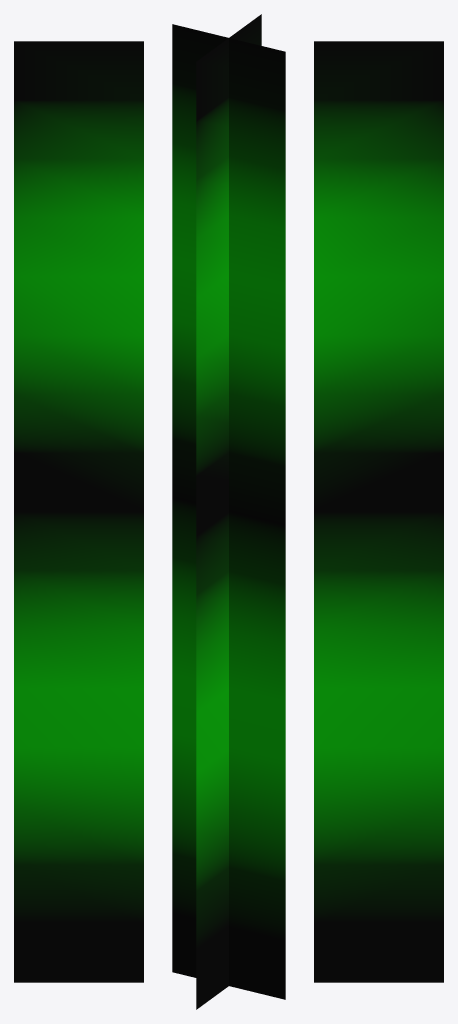
File: Seaweed1Model.fbx
3 views of the same model, side by side, from view 1: azimuth 90°, elevation 25°; view 2: azimuth 150°, elevation 25°; view 3: azimuth 270°, elevation 25° (orthographic).
Parts seen in each view (by area): view 1: SeaweedModel; view 2: SeaweedModel; view 3: SeaweedModel.
Boxes of the visible parts, x1=… form: SeaweedModel: x1=14, y1=41, x2=143, y2=982; SeaweedModel: x1=172, y1=14, x2=285, y2=1009; SeaweedModel: x1=314, y1=41, x2=443, y2=982.
Bounding box in the file's own units: 12.5 × 100 × 12.5.
